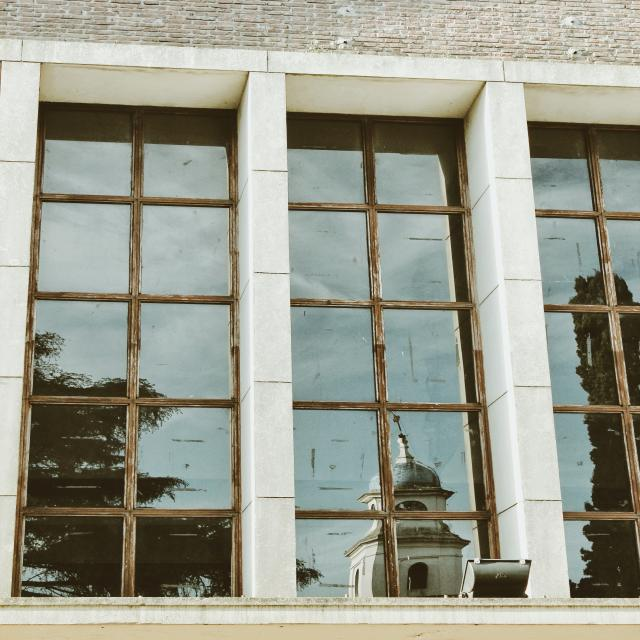Glass: (282, 111, 516, 602), (29, 92, 249, 601), (521, 116, 640, 597)
